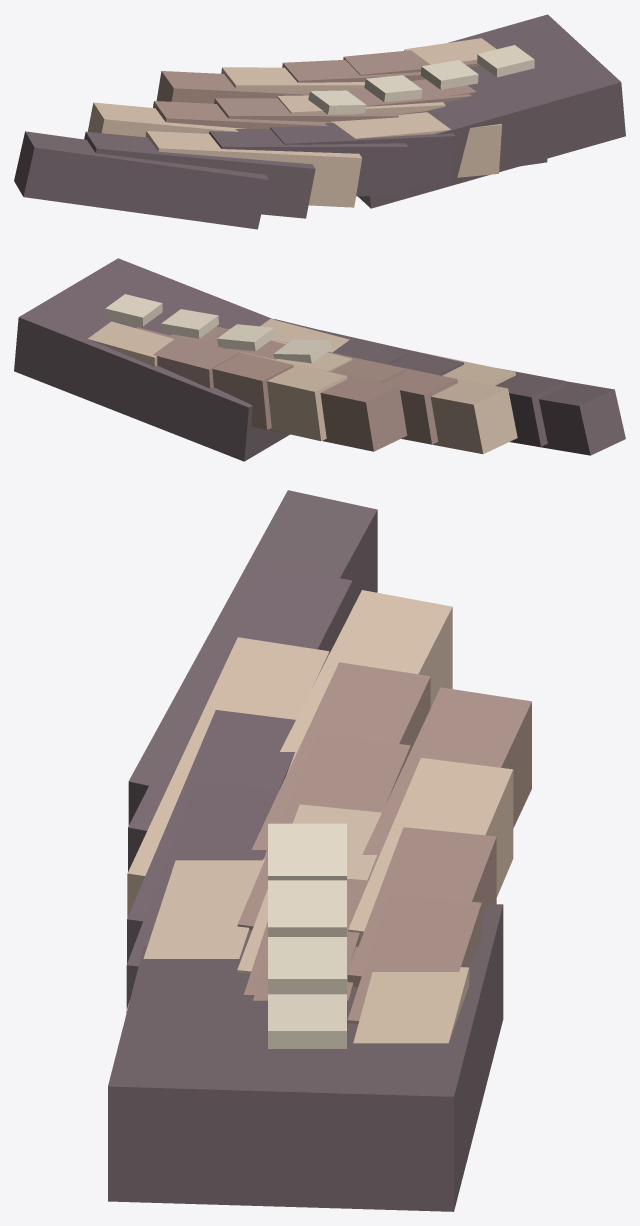
Rendered from owl_wing.glb.
The picture shows the model from 3 angles, top to bottom: view 1: azimuth 30°, elevation 25°; view 2: azimuth 150°, elevation 25°; view 3: azimuth 270°, elevation 25°; orthographic projection. The views are drawn at different scales.
Parts seen in each view (by area): view 1: Moonpost Courier Owl Wing; view 2: Moonpost Courier Owl Wing; view 3: Moonpost Courier Owl Wing.
Part boxes in pixels (<box>): Moonpost Courier Owl Wing: <box>14,14,625,229</box>; Moonpost Courier Owl Wing: <box>14,258,625,461</box>; Moonpost Courier Owl Wing: <box>108,490,531,1211</box>.
Bounding box in the file's own units: 3.34 × 0.6224 × 1.07.
